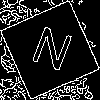N: (25, 25, 76, 81)
